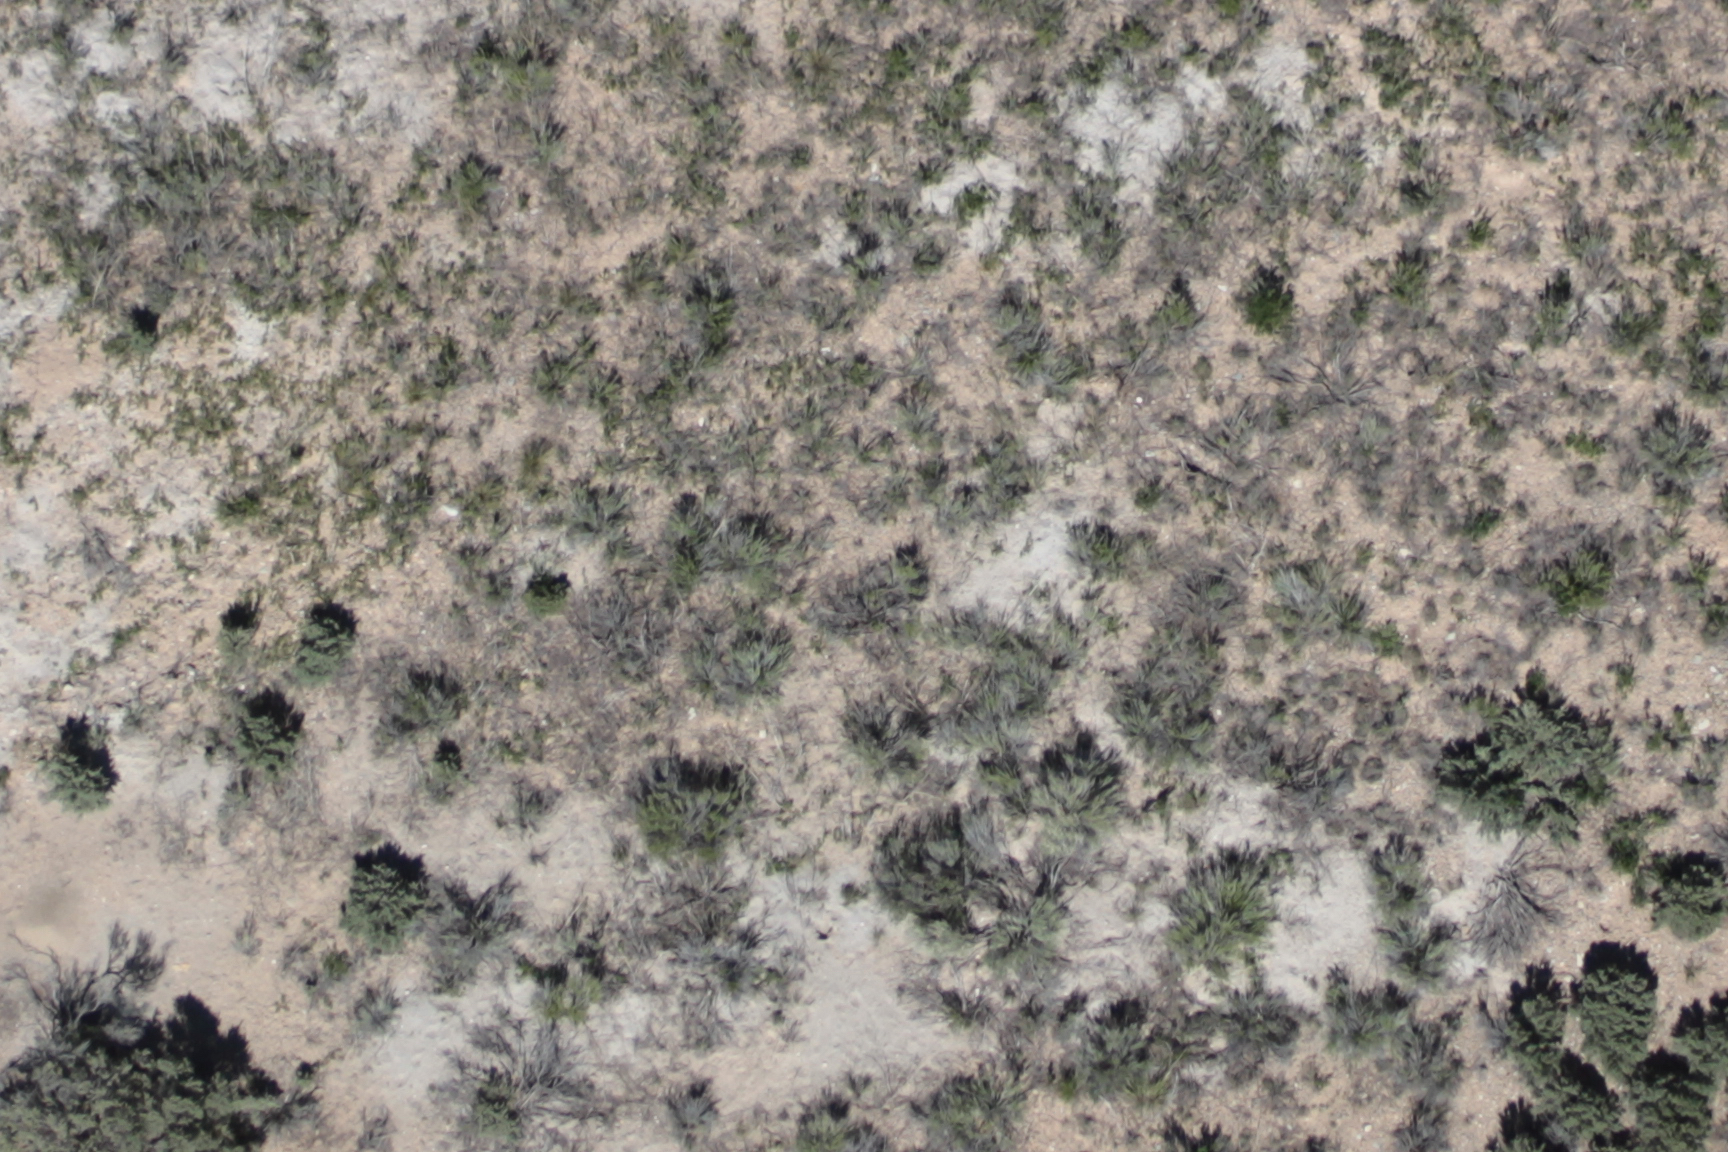burrow: (1, 876, 100, 971)
